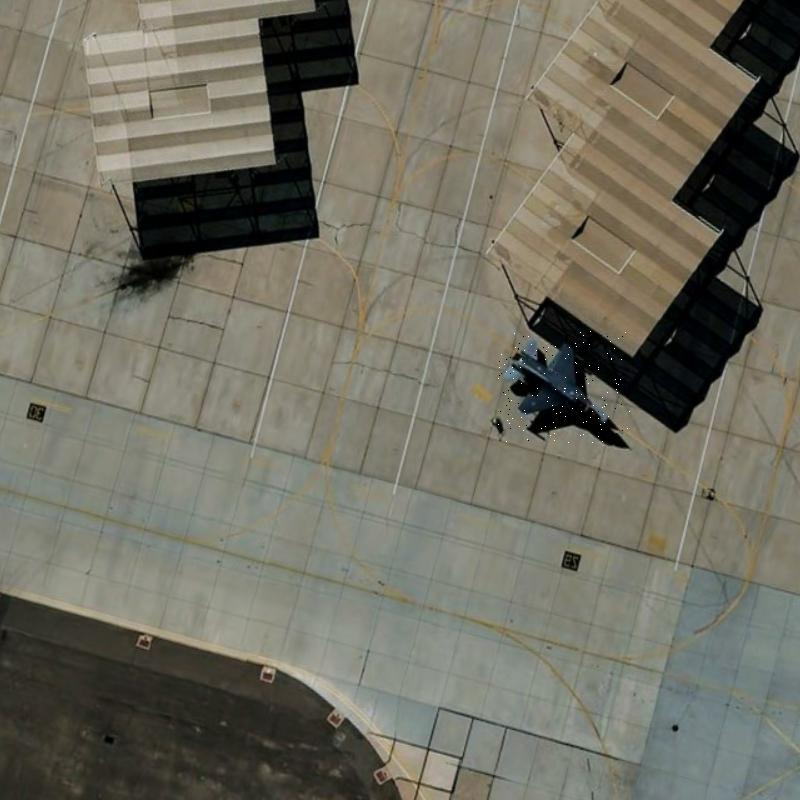A5: (498, 331, 630, 443)
